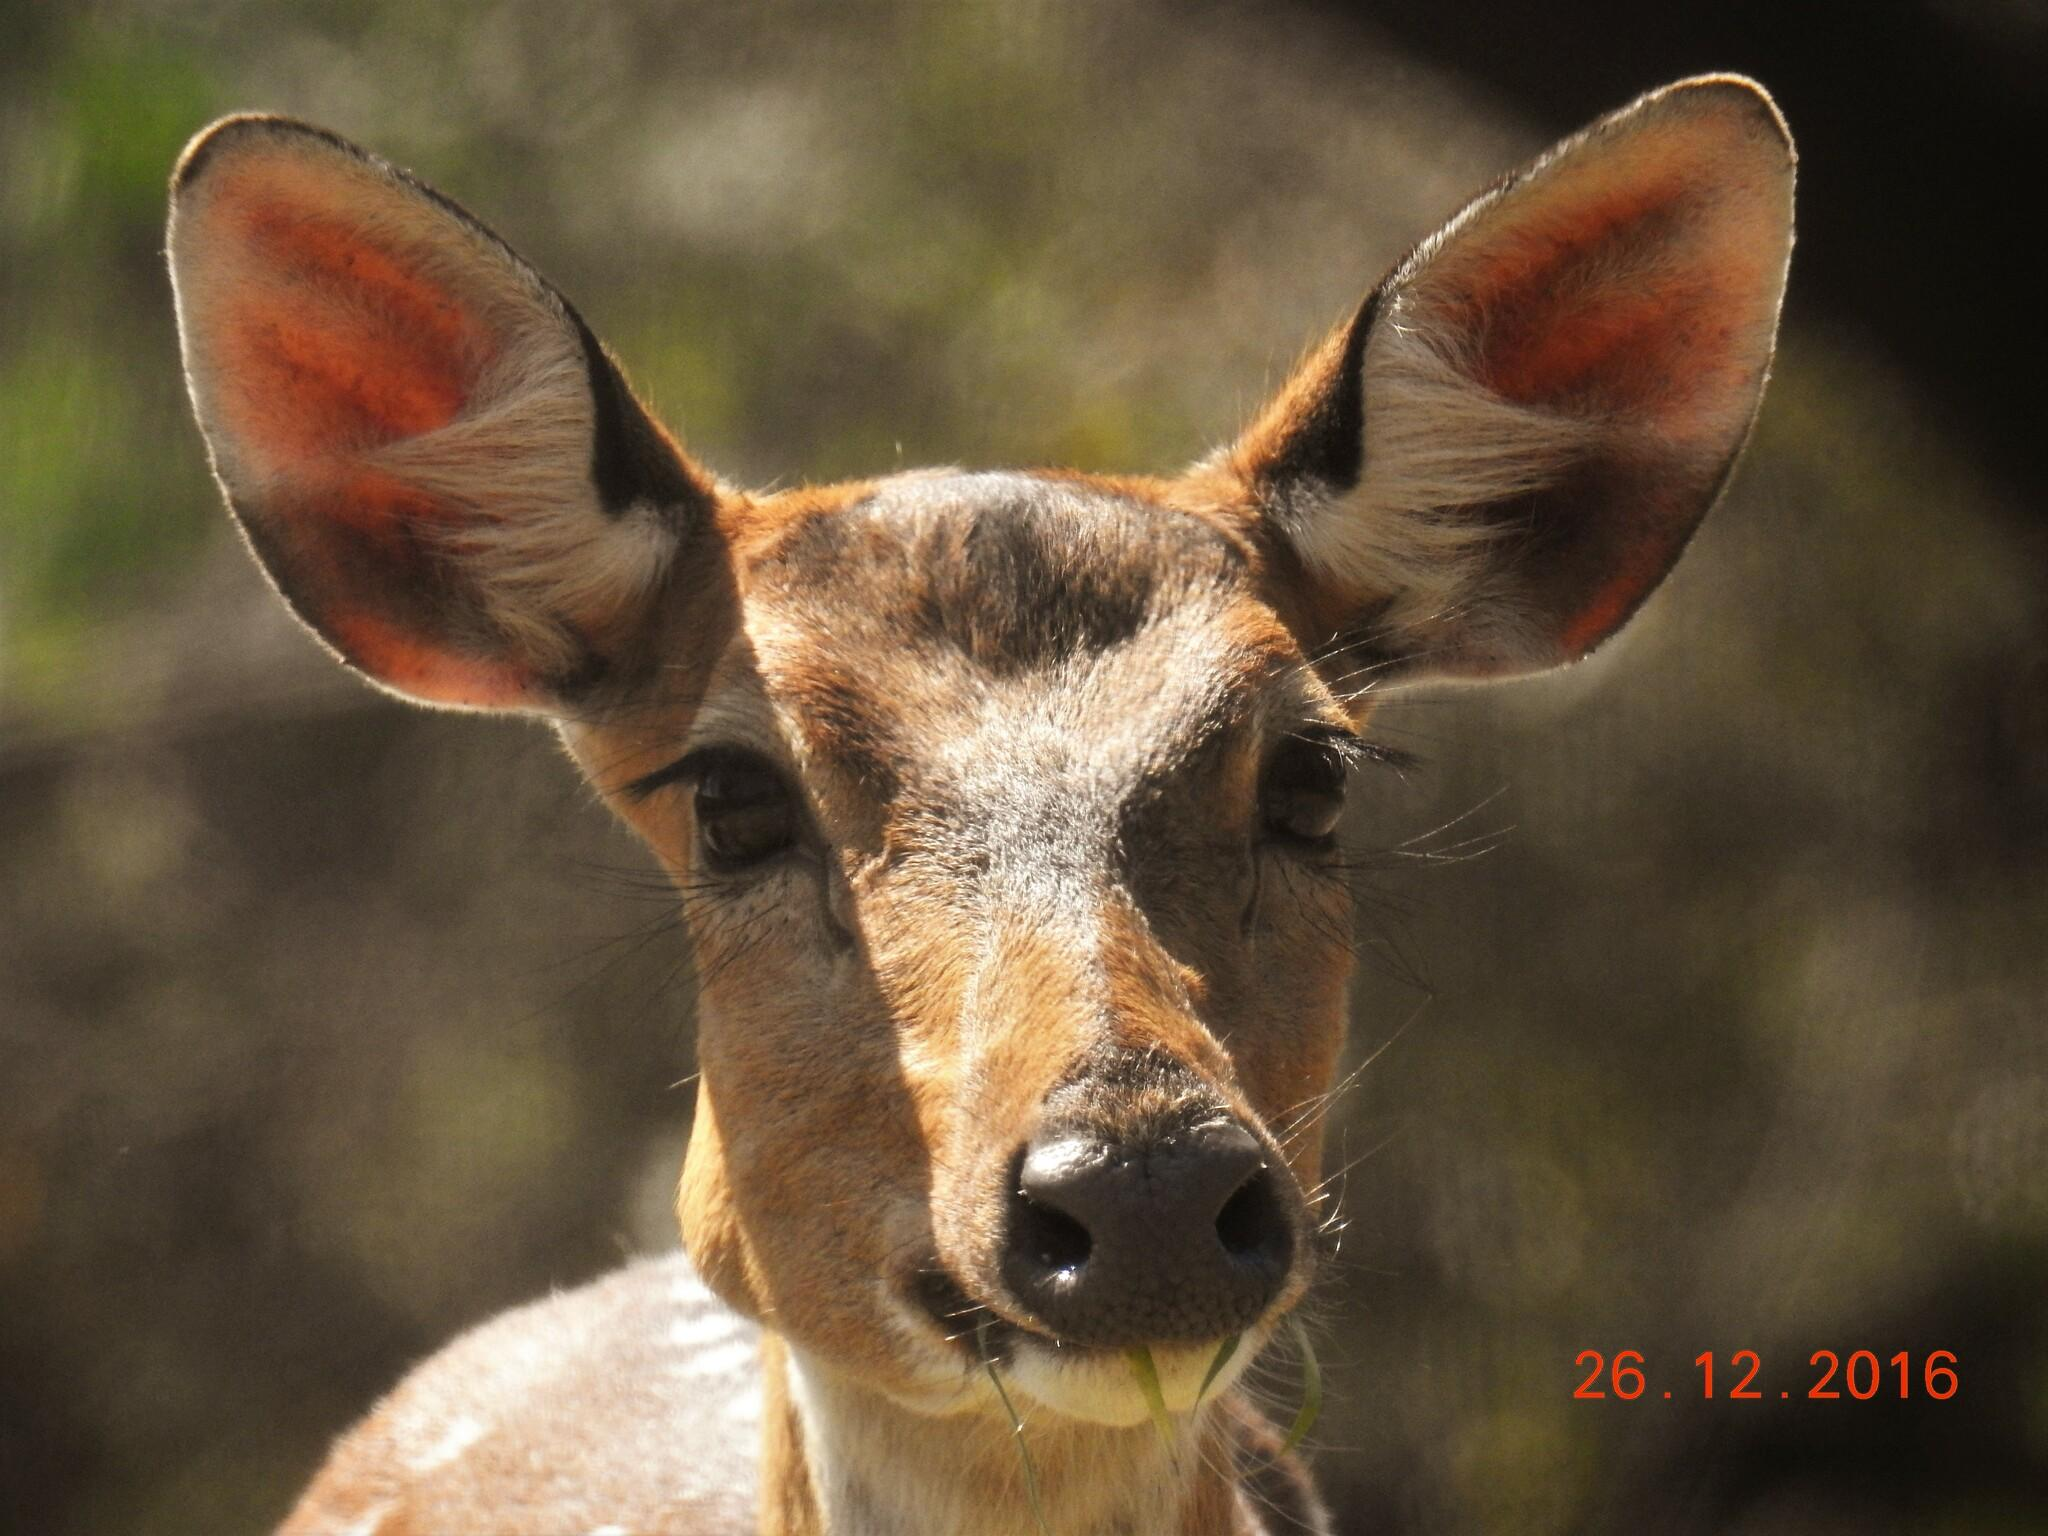Deer: (168, 74, 1795, 1534)
